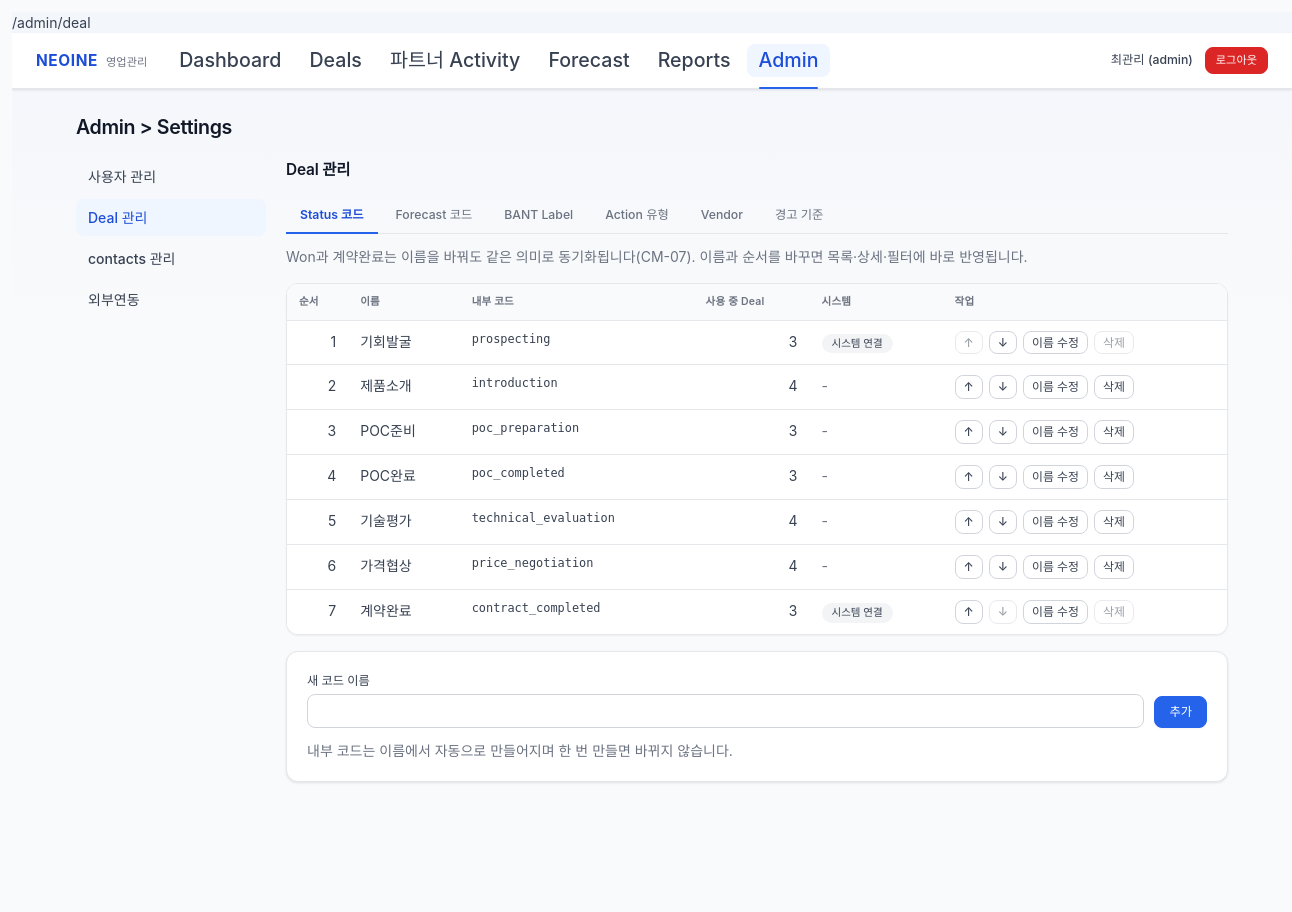
Test case: Status 코드 이름 수정 (T-ADMIN-04) › renames a code inline
Expected: the row "1 기회발굴 prospecting 3 시스템 연결 ↑ ↓ 이름 수정 삭제" is shown, [287, 321, 1227, 366]
Click the button "이름 수정" in the row of "가격협상" at coordinates (1055, 567), box [1023, 555, 1088, 579]
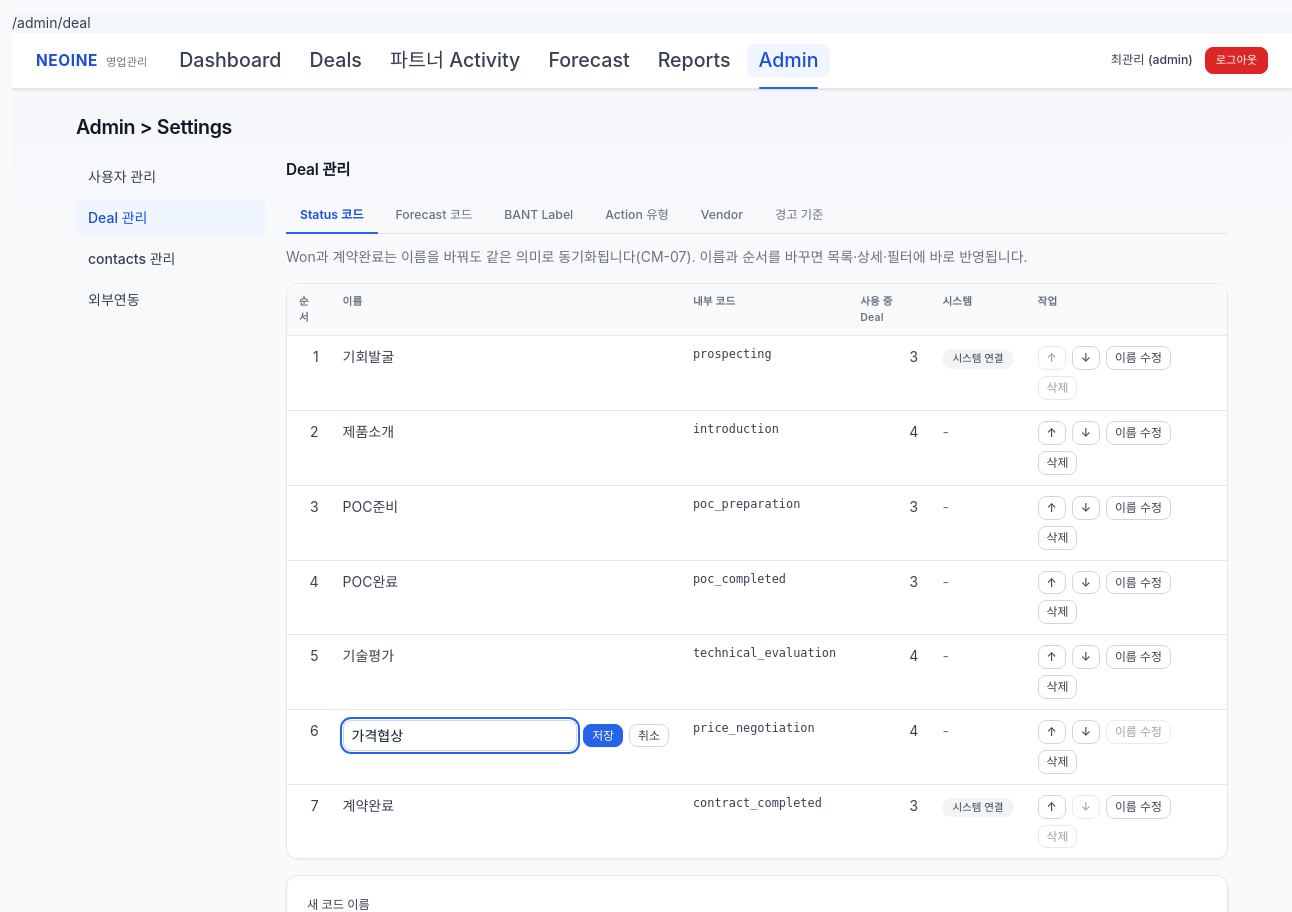
Replace the text in the field named "코드 이름" with "가격 협의" at coordinates (460, 736), box [343, 720, 577, 751]
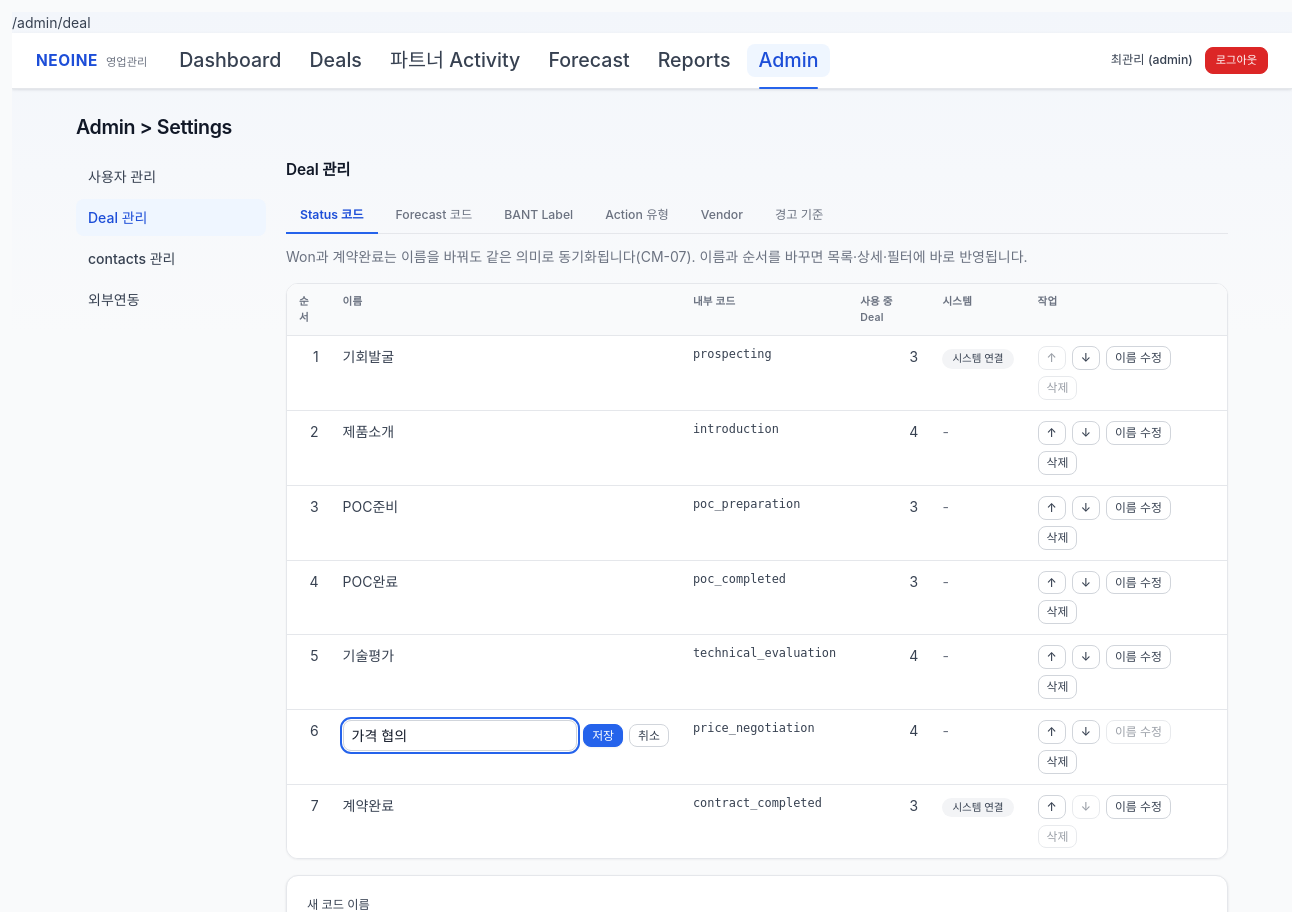
Click the button "저장" at coordinates (603, 735), box [583, 724, 623, 747]
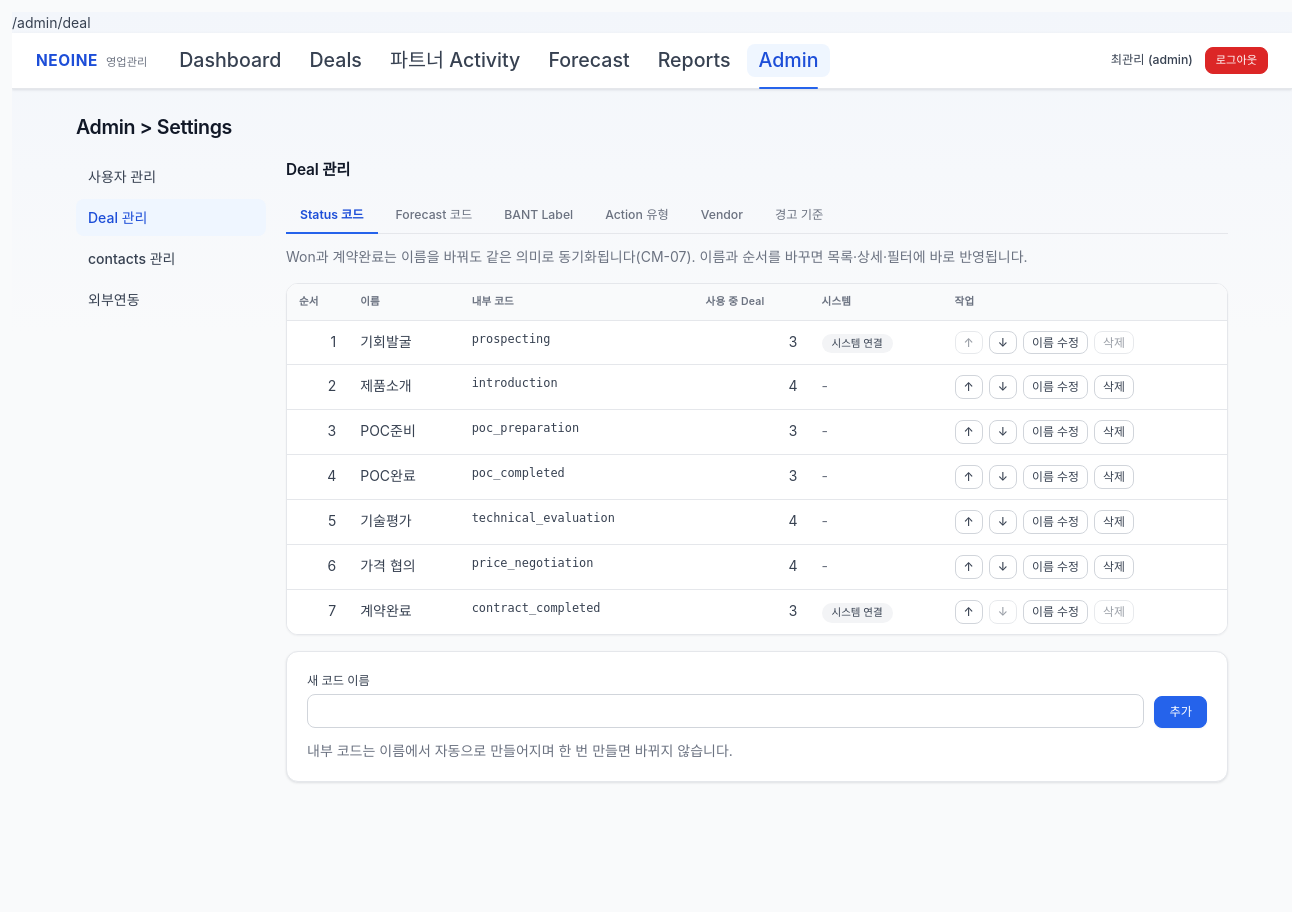
Expected: the cell "가격협상" is not shown
Expected: the row "6 가격 협의 price_negotiation 4 - ↑ ↓ 이름 수정 삭제" is shown, [287, 545, 1227, 590]
